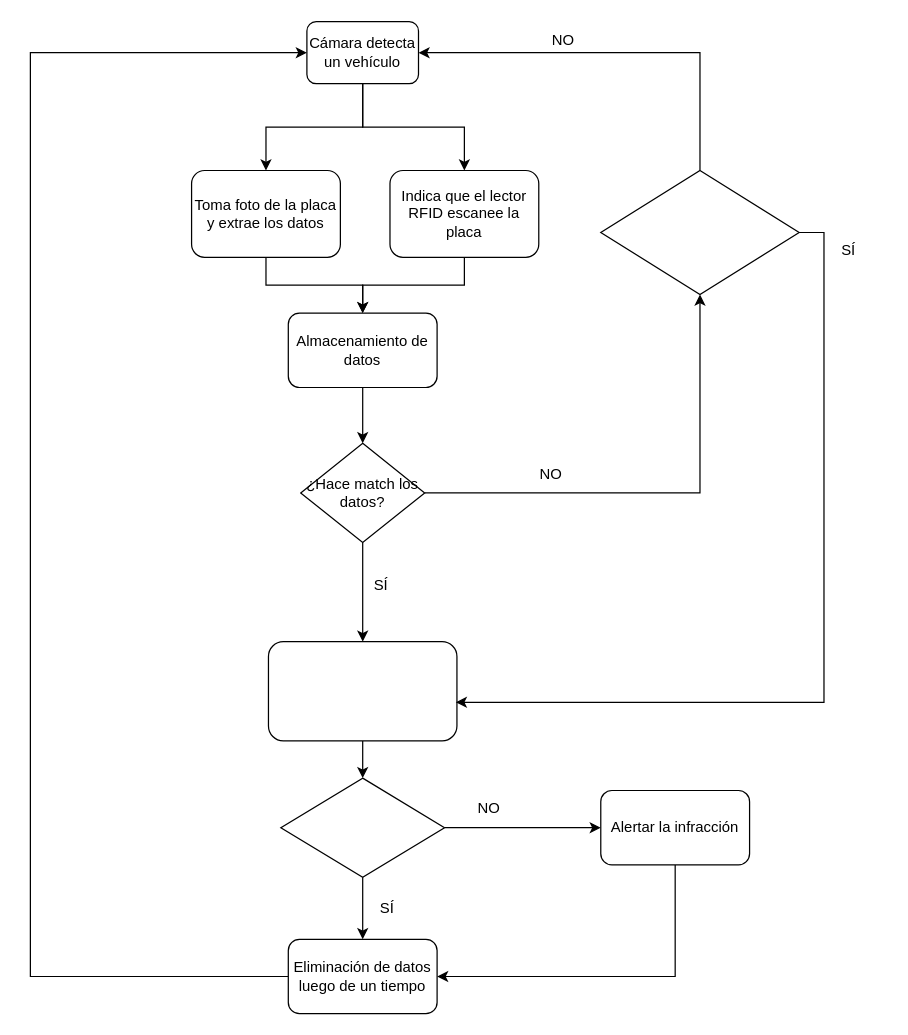
The diagram is 908 pixels wide and 1035 high, and some of its shapes have lost their labels. The centre of each missing label's shape, as x and y in pixels:
"Consulta a la base de datos para verificación de placas" belongs at pixel 362 690.
"¿Está todo en regla?" belongs at pixel 362 827.
"¿Se reintentó 3 veces sin match?" belongs at pixel 699 231.
